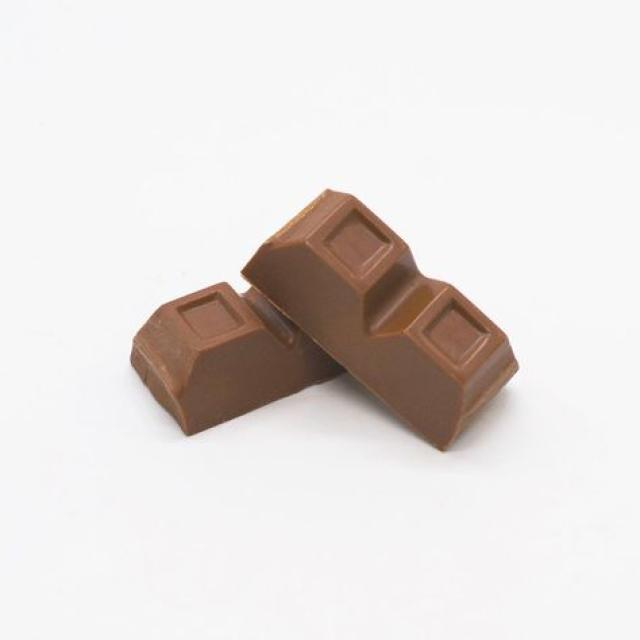Chocolate: (233, 181, 523, 452), (123, 280, 360, 434)
